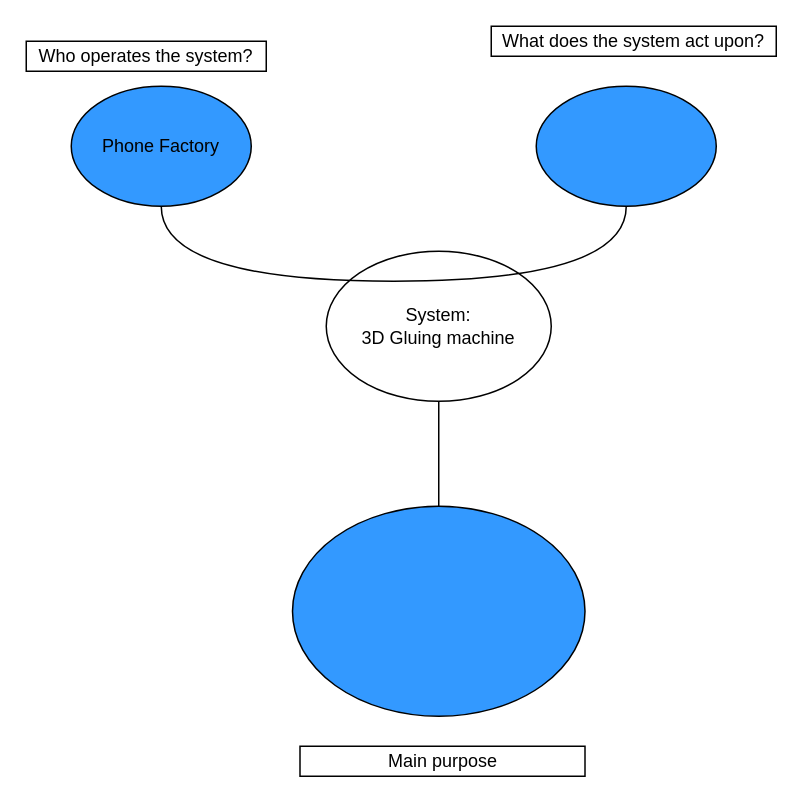
The diagram is 803 pixels wide and 803 high, and some of its shapes have lost their labels. The centre of each missing label's shape, as x and y in pixels:
"Apply consistent layer of glue on specified phone case dimensions accurately" goes at [438,610].
"Phone Case" goes at [625,145].
